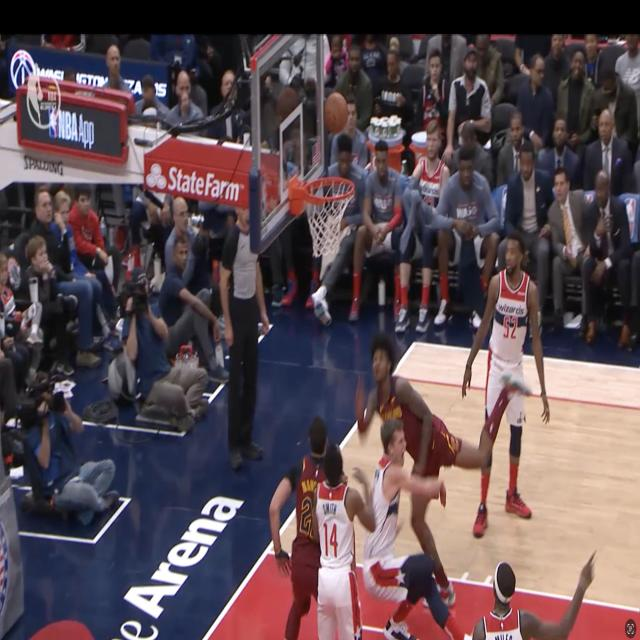foul: (335, 319, 489, 613)
no foul: (473, 216, 561, 566), (255, 411, 356, 640), (461, 555, 601, 640)
